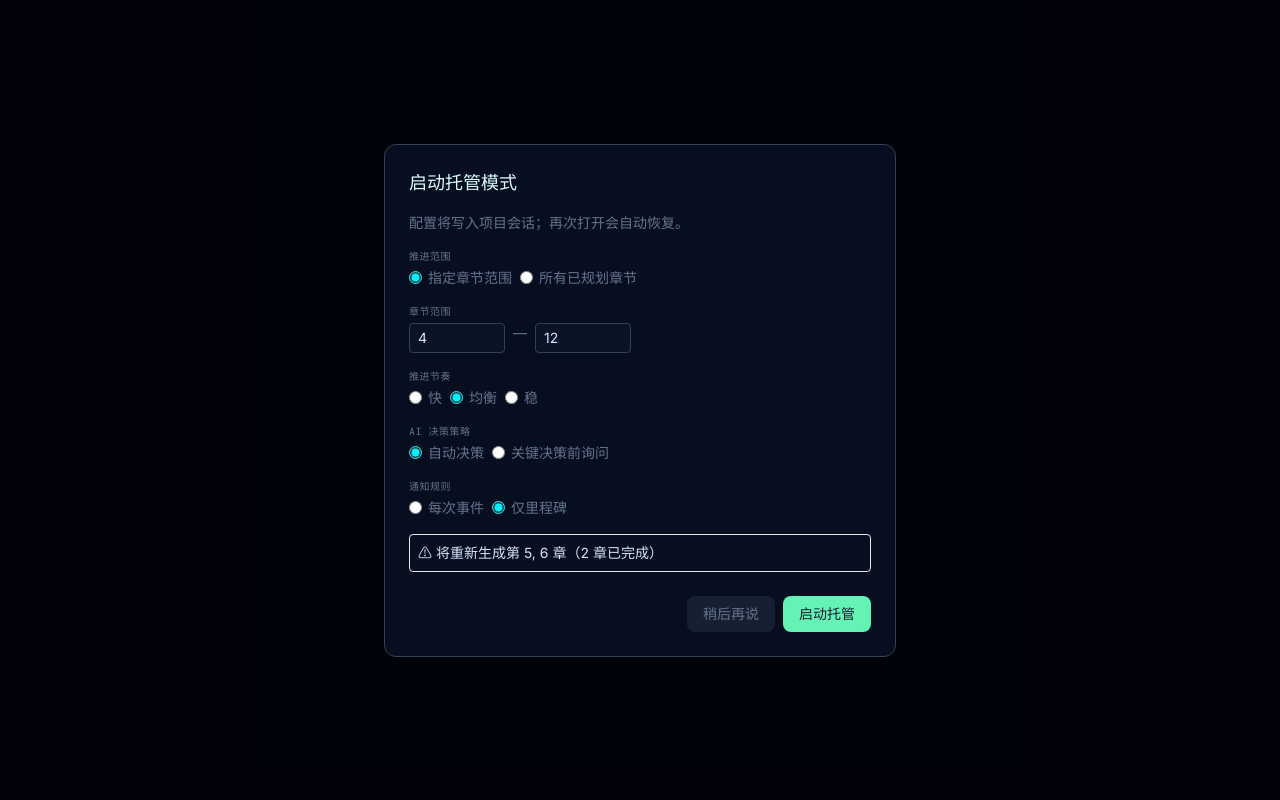
Test: ManagedStartModal — range scope › opens confirmation dialog when Start clicked and regen chapters present
Check: the text "⚠ 将重新生成第 5, 6 章（2 章已完成）" is shown, box left=409, top=534, right=871, bottom=572
Click the button with test id "start-submit".
click(827, 614)  # box left=783, top=596, right=871, bottom=632
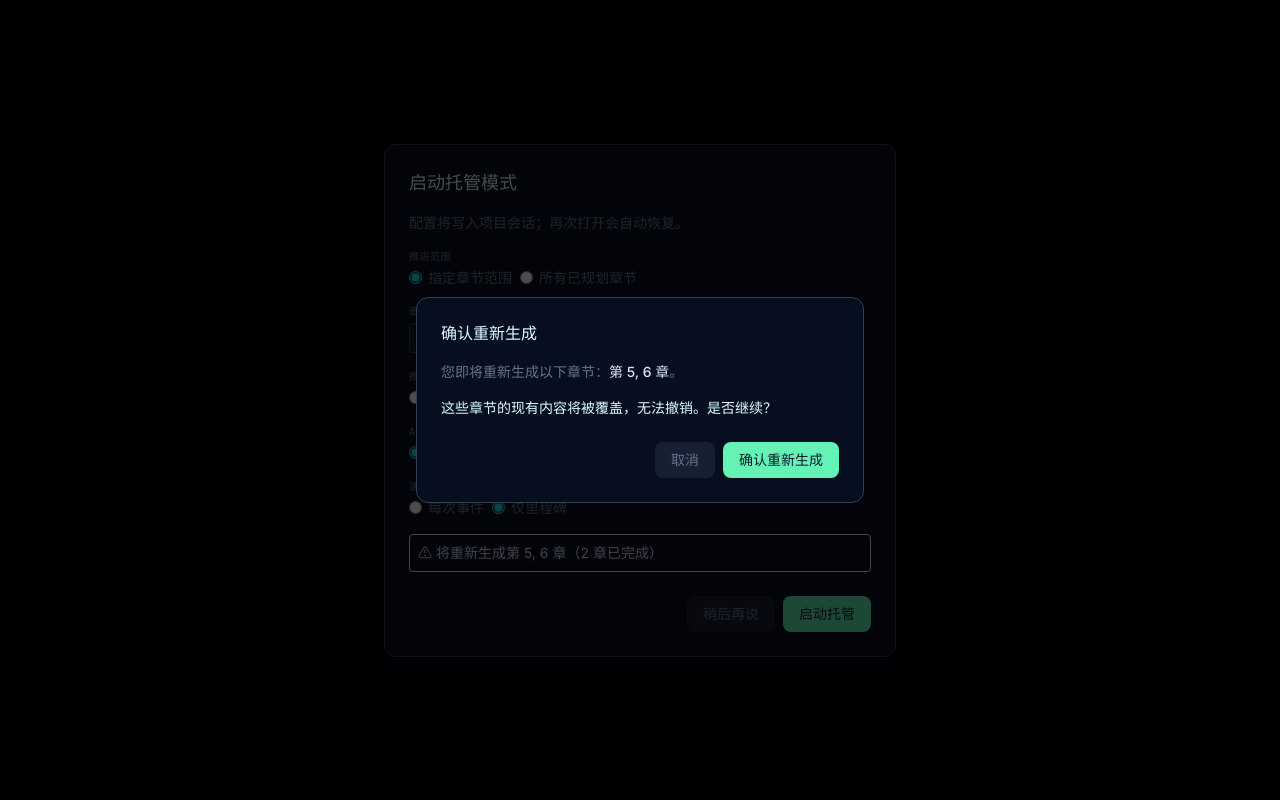
Check: the element with test id "confirm-dialog" is shown
